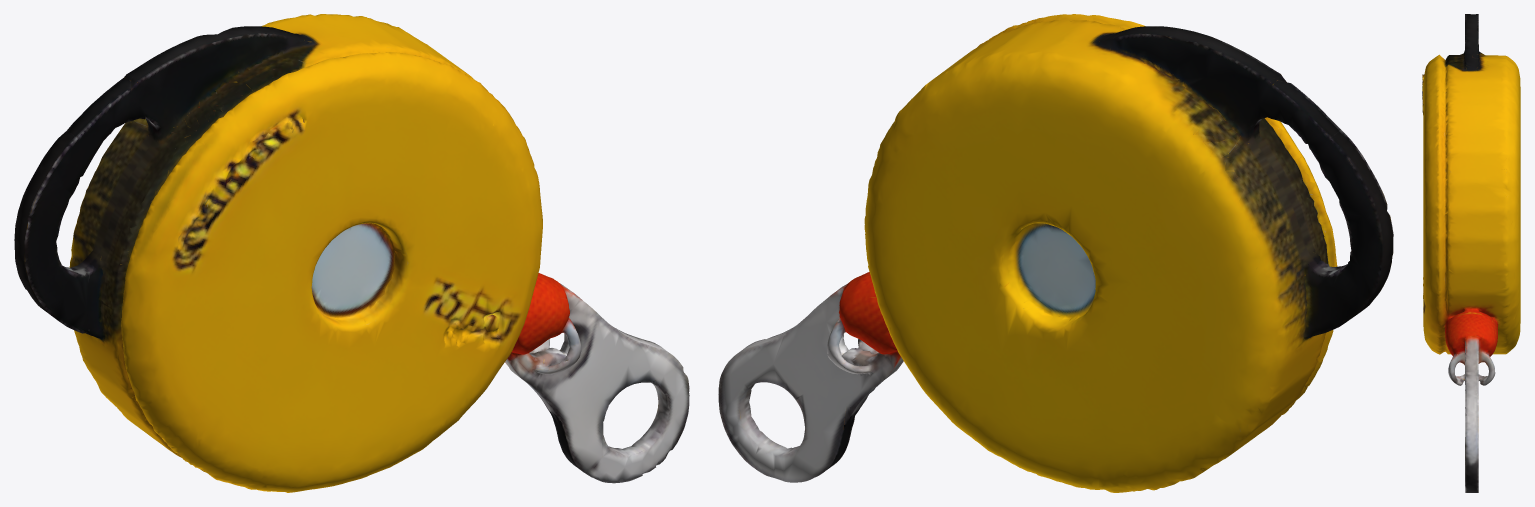
The model's file is base_basic_pbr.glb.
The picture shows the model from 3 angles, left to right: view 1: azimuth 30°, elevation 25°; view 2: azimuth 150°, elevation 25°; view 3: azimuth 270°, elevation 25°; orthographic projection. The views are drawn at different scales.
Parts seen in each view (by area): view 1: model; view 2: model; view 3: model.
Part boxes in pixels (<box>): model: <box>14,14,689,492</box>; model: <box>718,14,1393,492</box>; model: <box>1422,14,1520,492</box>.
Size of the model in its own units: 1.9 by 1.48 by 0.3891.
Materials: 1 (1 with a texture image).
